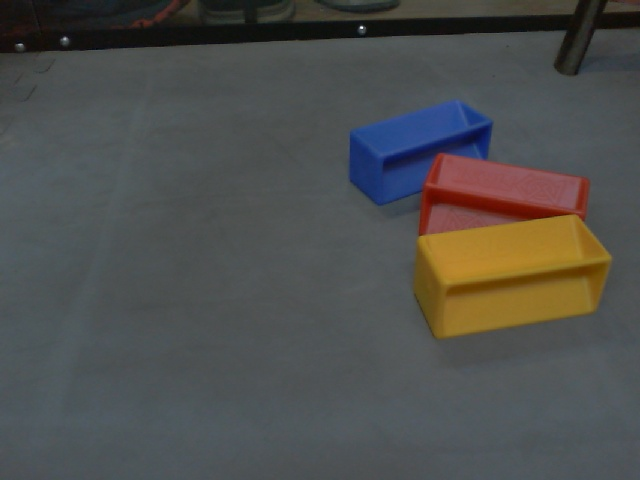BlueSample: (348, 98, 496, 207)
RedSample: (419, 152, 590, 244)
YellowSample: (410, 212, 614, 342)
